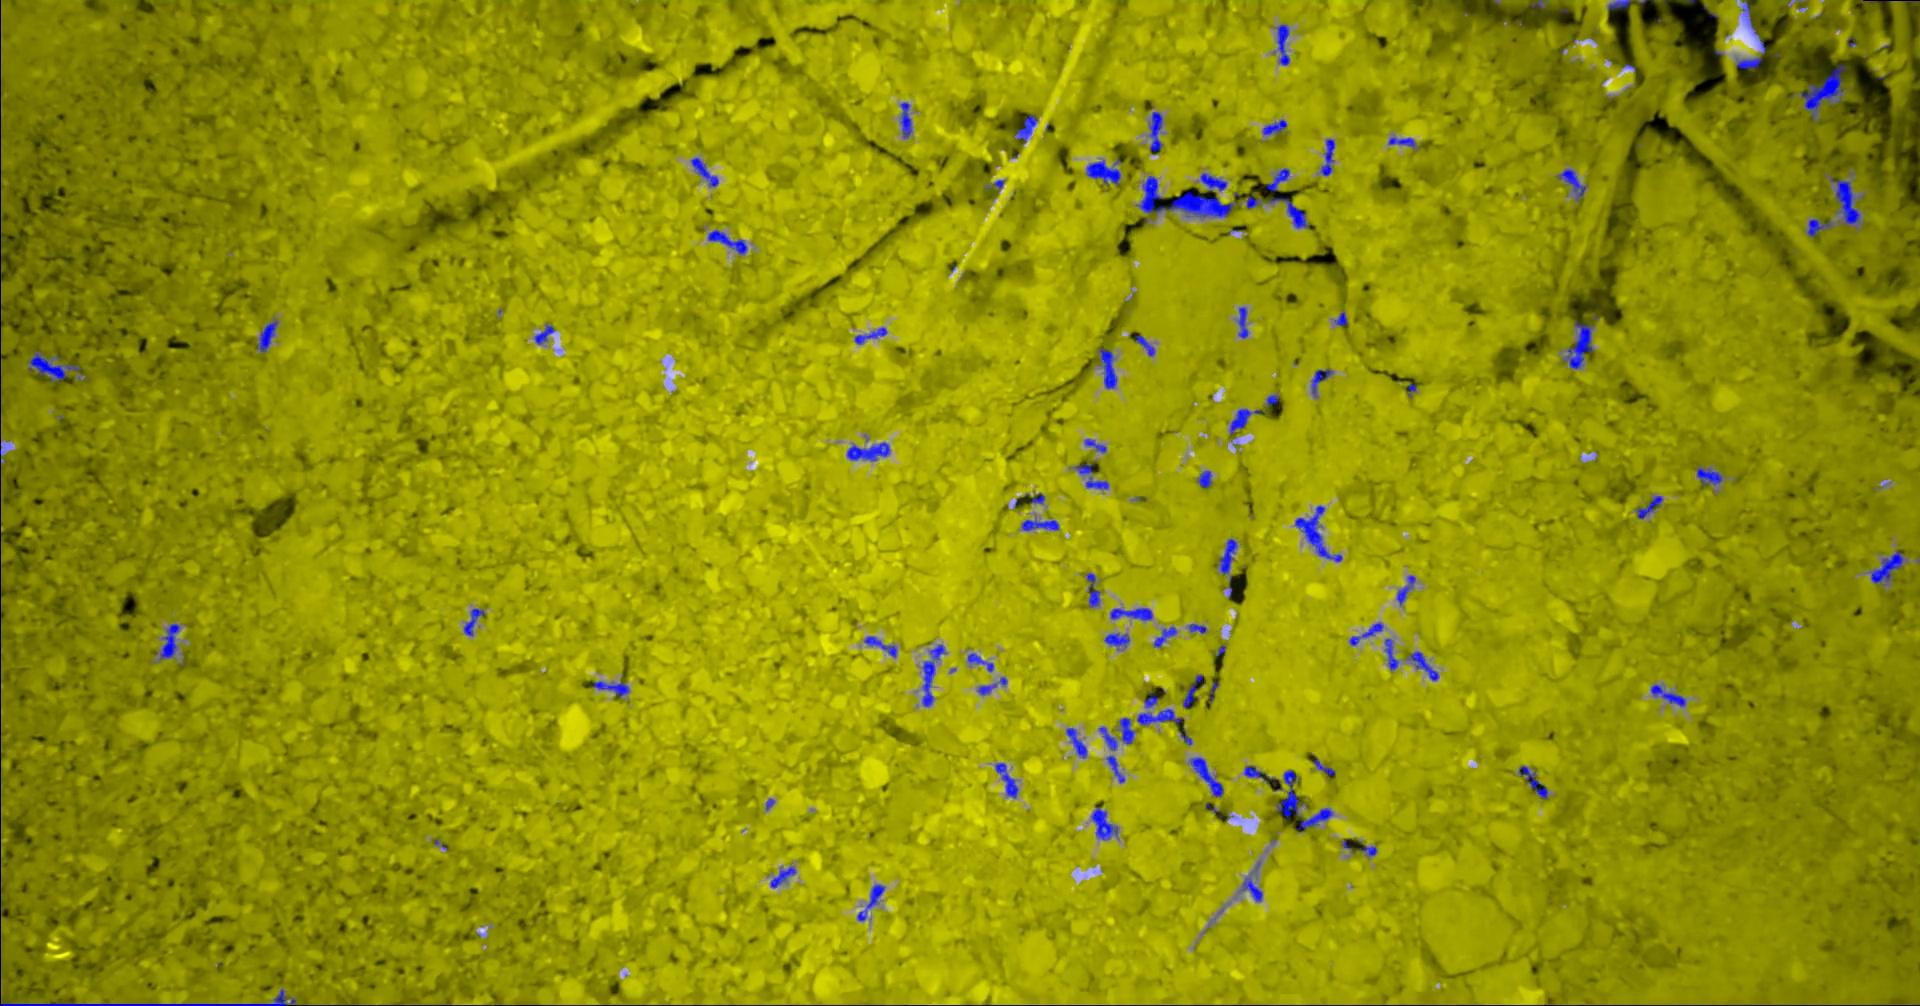ant: (1, 988, 297, 1005), (1277, 768, 1335, 831), (1297, 506, 1343, 561), (1802, 64, 1846, 119), (29, 351, 83, 382), (923, 644, 949, 706), (1832, 177, 1862, 224), (1566, 321, 1595, 368), (1267, 196, 1310, 227), (1192, 756, 1225, 796), (1870, 551, 1905, 583), (1230, 408, 1269, 434), (1737, 36, 1768, 69), (858, 884, 886, 920), (1520, 765, 1549, 798), (1088, 158, 1123, 185), (709, 230, 748, 254), (1559, 168, 1589, 199), (1076, 462, 1110, 489), (1408, 652, 1440, 680), (1093, 807, 1119, 840), (848, 441, 891, 460), (1652, 683, 1688, 706), (1351, 622, 1385, 645), (996, 762, 1018, 796), (692, 158, 720, 185), (1138, 708, 1183, 724), (1100, 347, 1117, 387), (1183, 674, 1205, 708), (163, 622, 182, 658), (865, 636, 898, 657), (258, 320, 279, 351), (1067, 727, 1088, 757), (594, 680, 631, 697), (1222, 539, 1239, 574), (1313, 370, 1335, 398), (1267, 166, 1291, 191), (1638, 495, 1663, 518), (1016, 114, 1037, 141), (465, 608, 486, 635), (1277, 24, 1291, 65), (1150, 111, 1164, 151), (856, 326, 888, 344), (1398, 575, 1417, 605), (1244, 765, 1277, 781), (771, 866, 797, 887), (1112, 607, 1154, 620), (1322, 138, 1336, 175), (969, 652, 996, 671), (1109, 754, 1126, 782), (1154, 626, 1178, 647), (1243, 876, 1263, 901), (1203, 171, 1228, 191), (1088, 572, 1102, 606), (1698, 467, 1724, 485), (1808, 218, 1832, 238), (1385, 638, 1399, 669), (1100, 727, 1119, 749), (536, 324, 556, 344), (902, 102, 913, 137), (1121, 716, 1137, 743), (1137, 334, 1156, 354), (1316, 758, 1337, 776), (1023, 520, 1060, 530), (1105, 633, 1131, 647), (1263, 119, 1288, 133), (1239, 306, 1250, 338), (1389, 136, 1417, 147), (1086, 438, 1109, 452), (1145, 691, 1161, 708), (1199, 470, 1213, 488), (979, 683, 998, 695), (1609, 0, 1632, 9), (1248, 196, 1263, 208), (1361, 845, 1378, 856), (1190, 622, 1208, 633), (1336, 311, 1349, 325), (1269, 394, 1281, 406)
